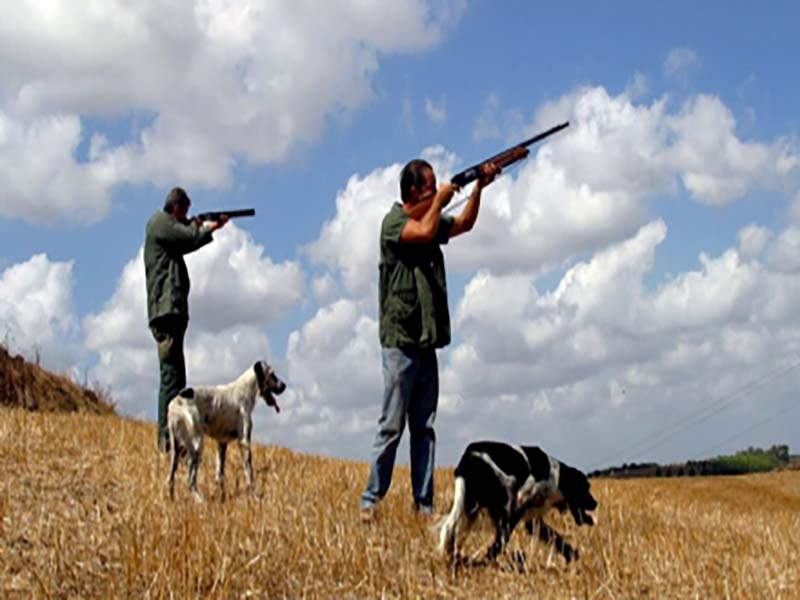cacciatore: (359, 107, 582, 440), (134, 184, 223, 474)
cane da caccia: (434, 439, 600, 568), (156, 358, 294, 497)
fucile: (400, 113, 574, 238), (177, 203, 270, 237)
